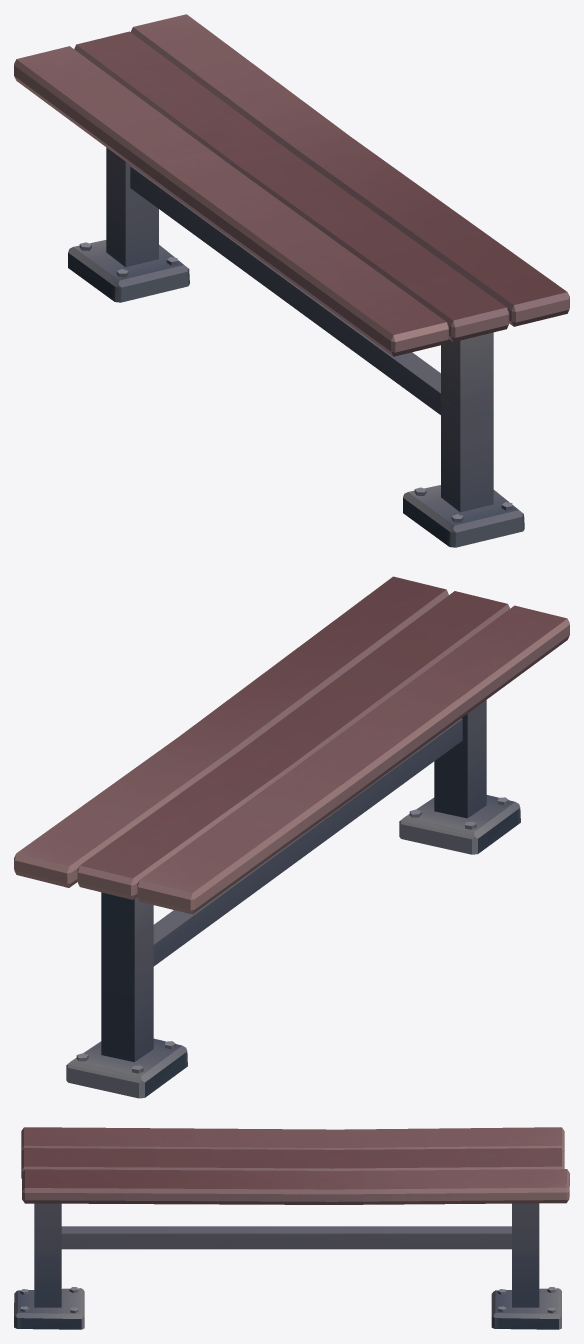
The model's file is Bank.FBX.
3 views of the same model, one above another, from view 1: azimuth 30°, elevation 25°; view 2: azimuth 150°, elevation 25°; view 3: azimuth 270°, elevation 25° (orthographic). The views are drawn at different scales.
Visible parts, largest first — view 1: Bank; view 2: Bank; view 3: Bank.
Boxes of the visible parts, x1=… form: Bank: x1=14, y1=14, x2=569, y2=547; Bank: x1=14, y1=576, x2=569, y2=1098; Bank: x1=14, y1=1127, x2=569, y2=1329.
Bounding box in the file's own units: 58.66 × 69.07 × 221.
